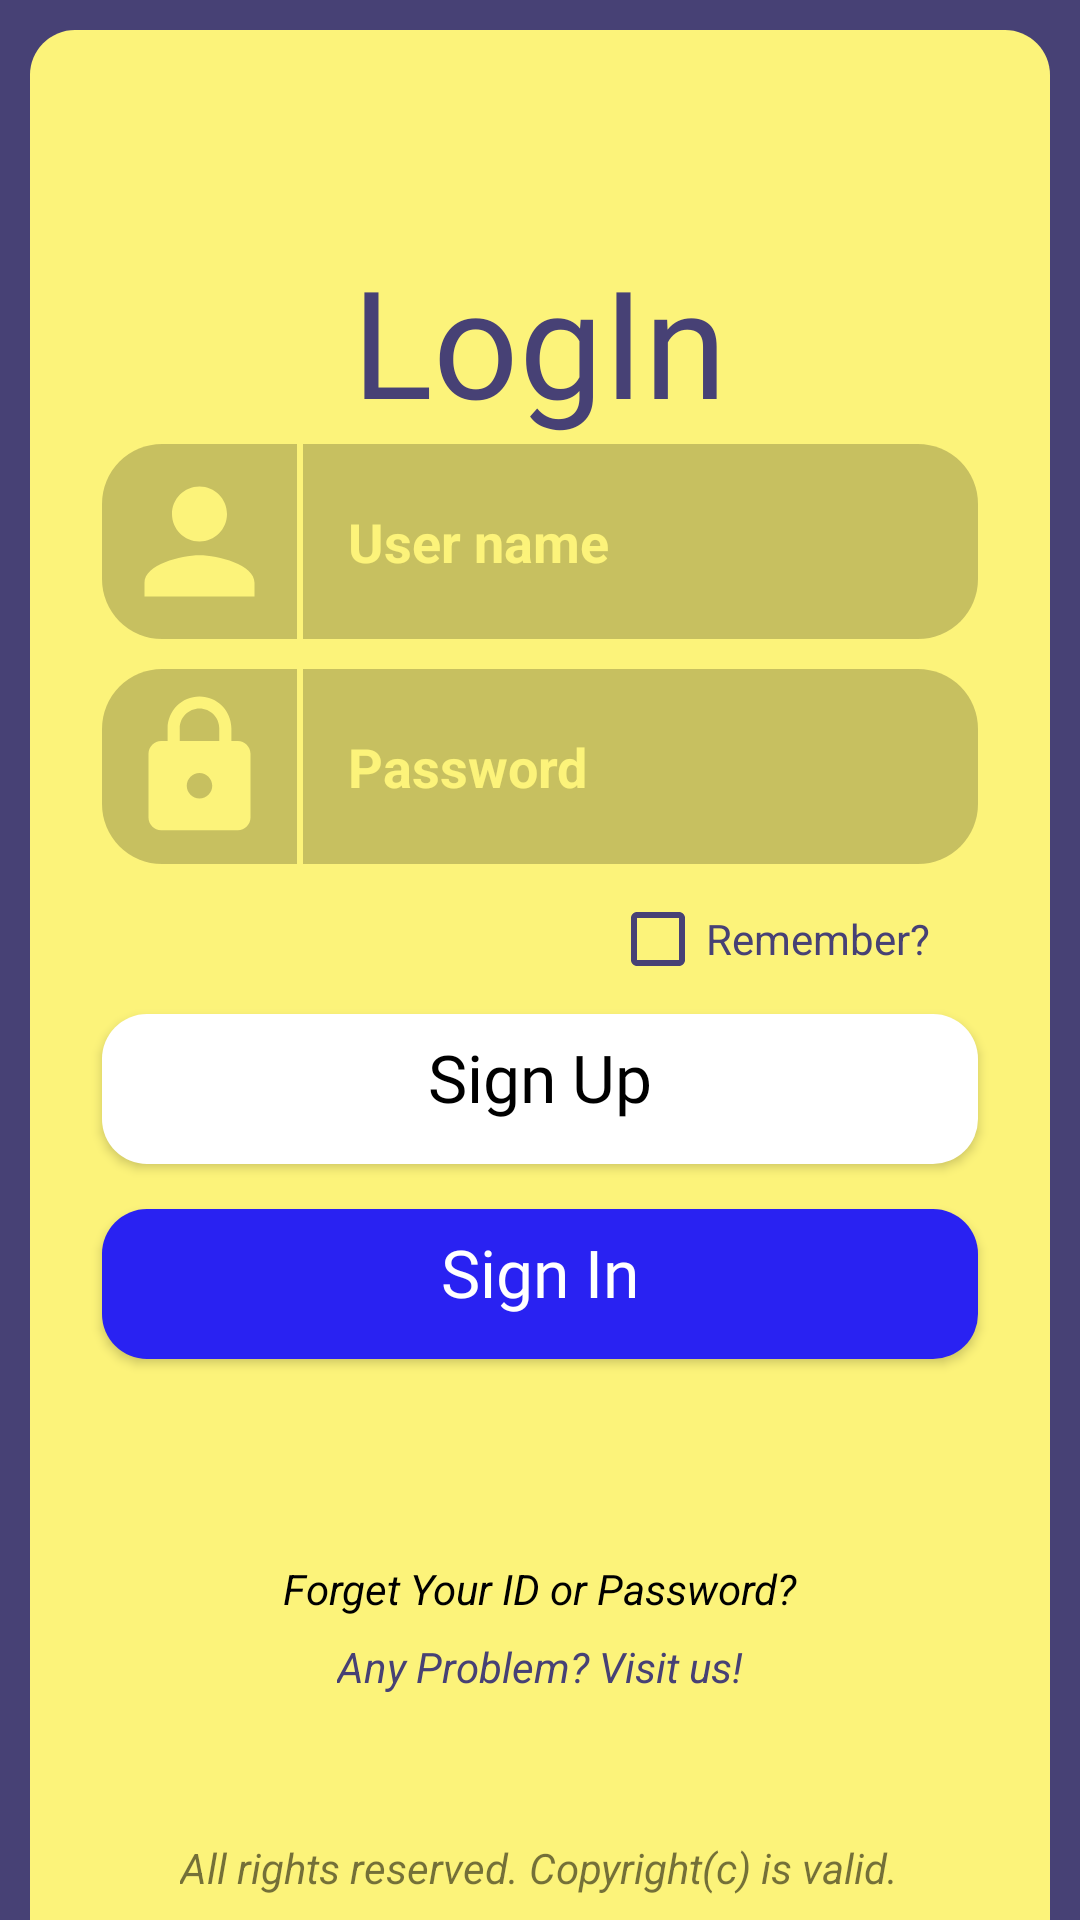

Screen size 1080×1920. Icon name, then its center in pixels as (x,y):
user id: (199,541)
